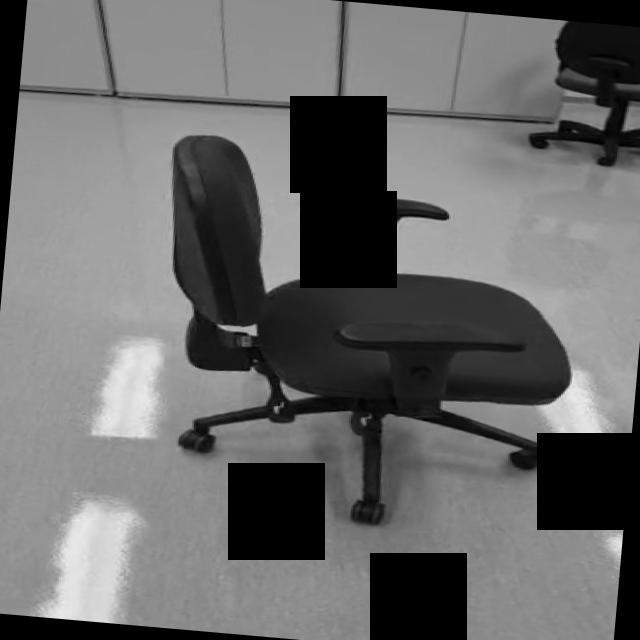chair: (142, 132, 590, 542)
